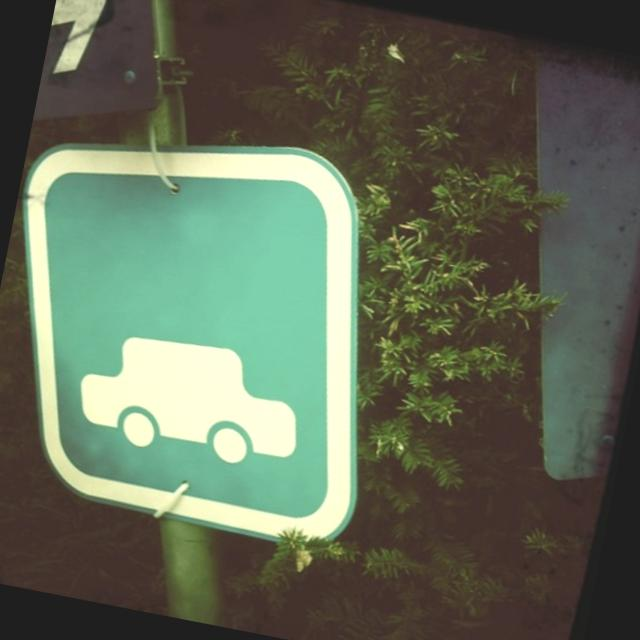Vehicle: (65, 319, 318, 482)
